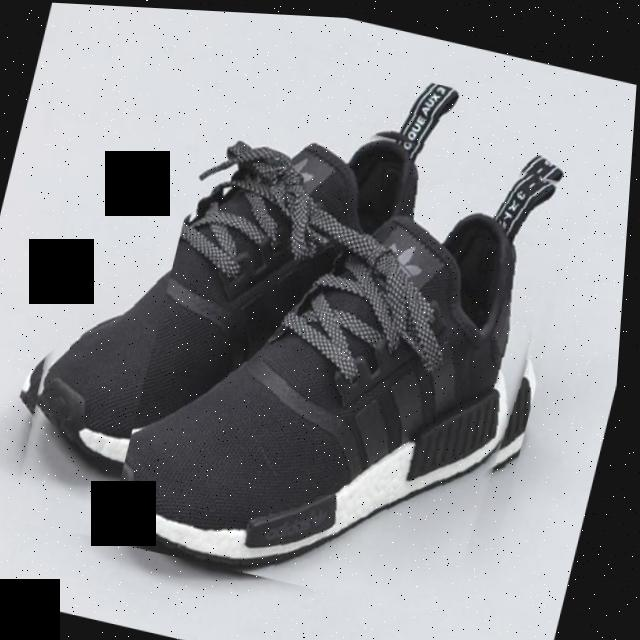shoe: (0, 5, 606, 625), (109, 88, 591, 624)
